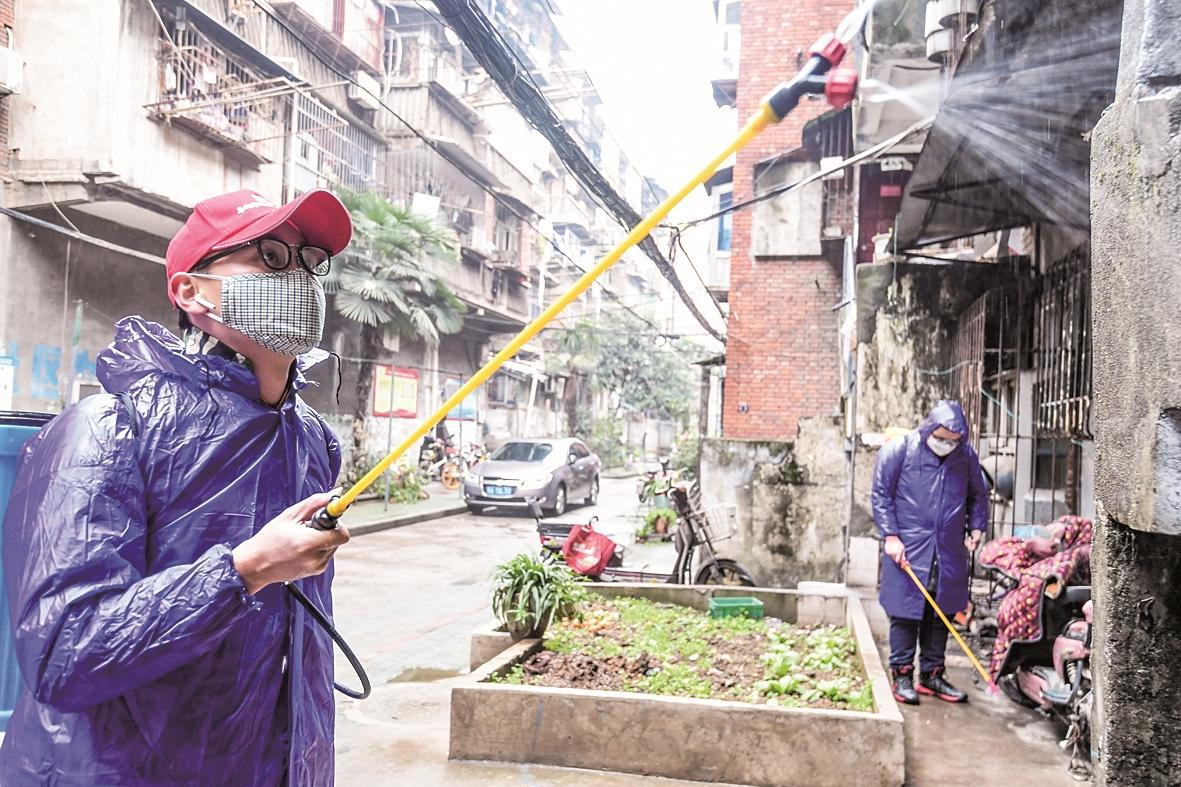mask: (167, 267, 337, 357)
